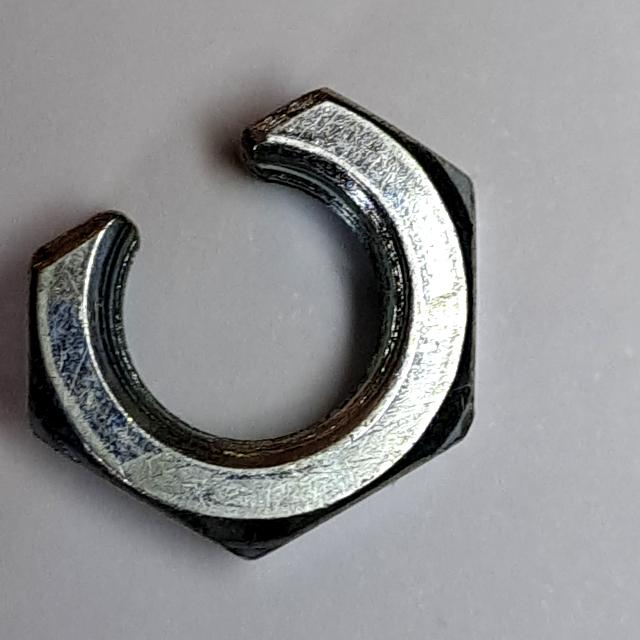Fracture: (19, 74, 493, 573)
